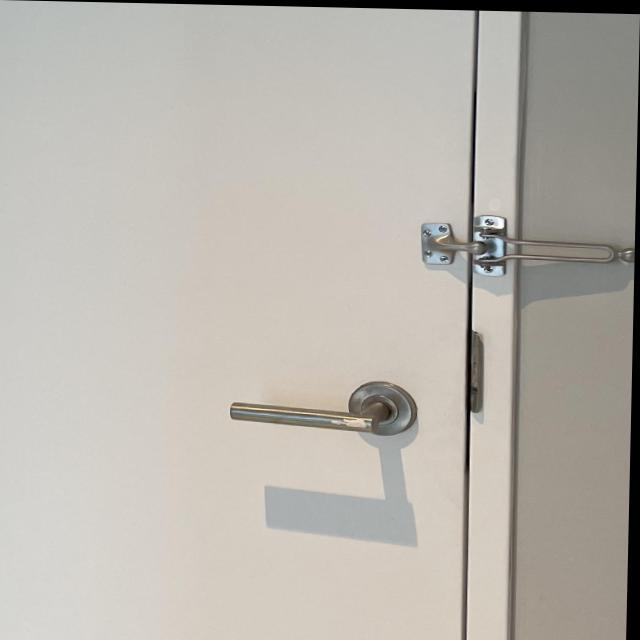door_handle: (223, 365, 429, 454)
